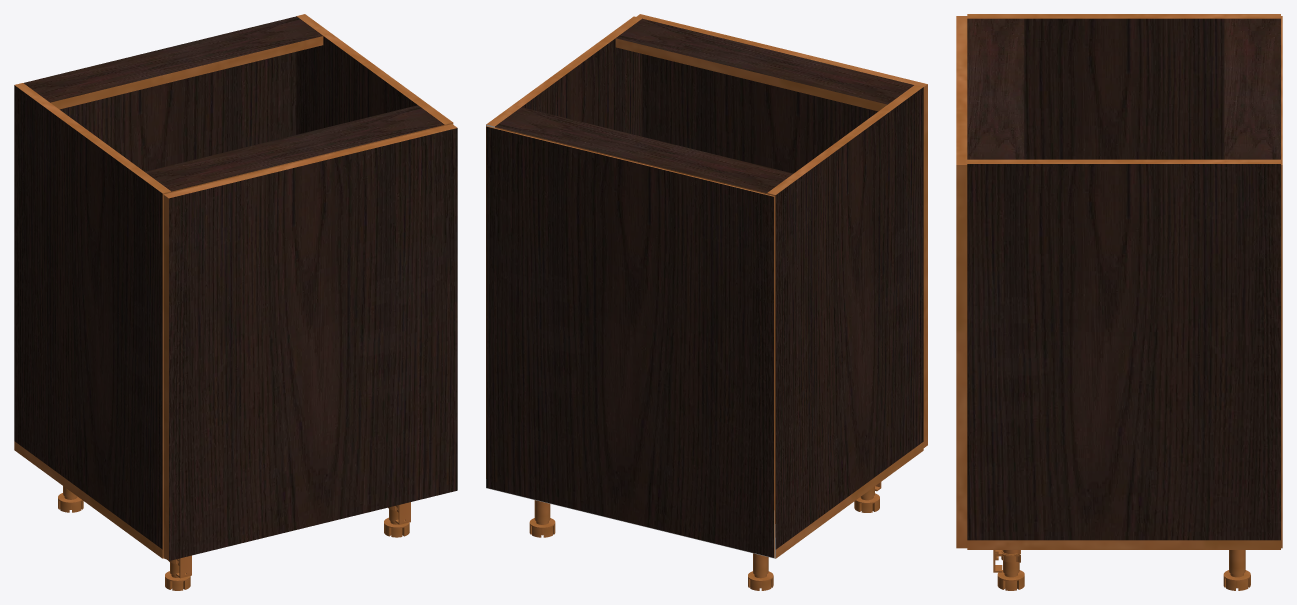
The model's file is МН600(720)1прав_530 !.glb.
The picture shows the model from 3 angles, left to right: view 1: azimuth 30°, elevation 25°; view 2: azimuth 150°, elevation 25°; view 3: azimuth 270°, elevation 25°; orthographic projection. The views are drawn at different scales.
Parts seen in each view (by area): view 1: МН600(720)1прав_530.002, МН600(720)1прав_530.001; view 2: МН600(720)1прав_530.001, МН600(720)1прав_530.002; view 3: МН600(720)1прав_530.001, МН600(720)1прав_530.002.
Part boxes in pixels (left/top/right/bottom): МН600(720)1прав_530.002: left=163, top=124, right=457, bottom=560; МН600(720)1прав_530.001: left=14, top=14, right=453, bottom=590; МН600(720)1прав_530.001: left=486, top=16, right=923, bottom=590; МН600(720)1прав_530.002: left=636, top=14, right=927, bottom=447; МН600(720)1прав_530.001: left=967, top=14, right=1282, bottom=590; МН600(720)1прав_530.002: left=956, top=16, right=967, bottom=548.
Size of the model in its own units: 6 by 8.2 by 5.52.
6 materials, 4 textured.
